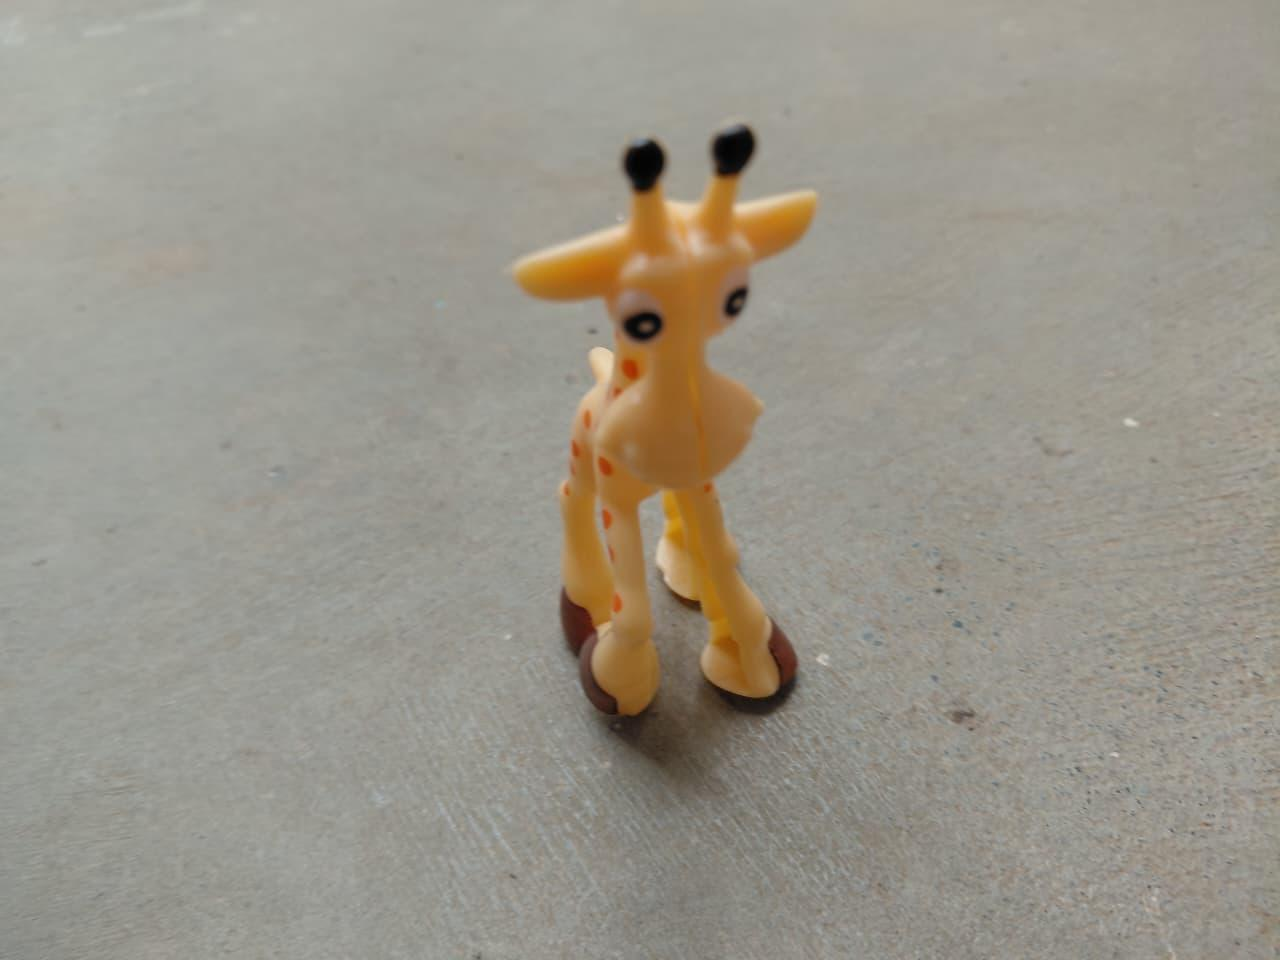giraffe: (500, 116, 844, 732)
